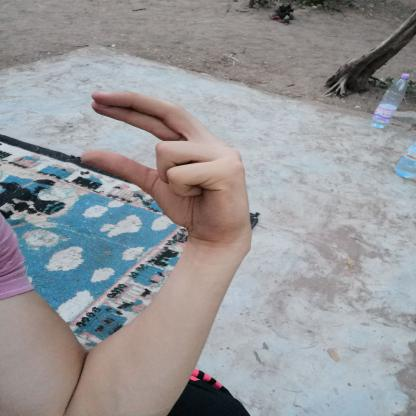DHELL: (67, 82, 266, 246)
